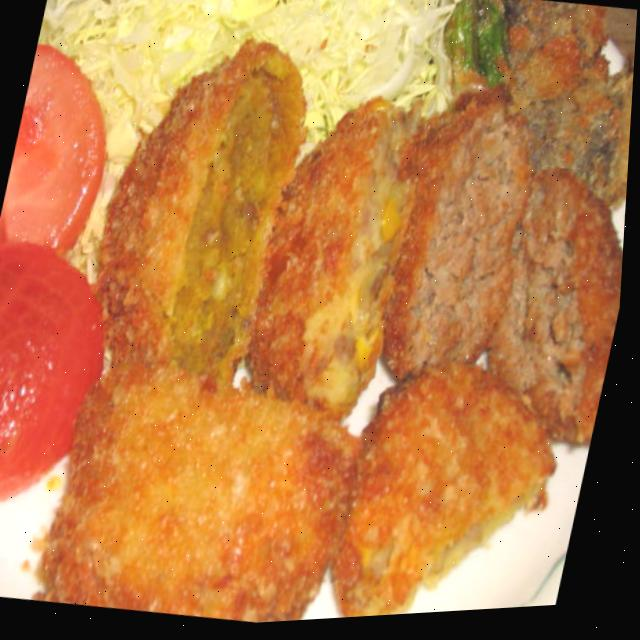炸货点心: (52, 26, 637, 636)
